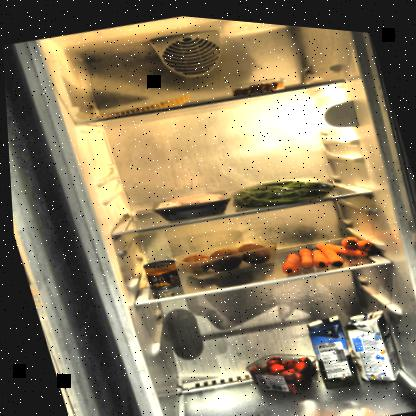carrot: (271, 218, 381, 279)
corn: (138, 253, 180, 291)
green_beans: (224, 155, 347, 220)
ground_beef: (145, 179, 235, 228)
milk: (338, 300, 403, 384), (301, 305, 357, 387)
potato: (177, 228, 276, 282)
shrimp: (226, 68, 288, 97)
strawberries: (237, 335, 324, 402)
